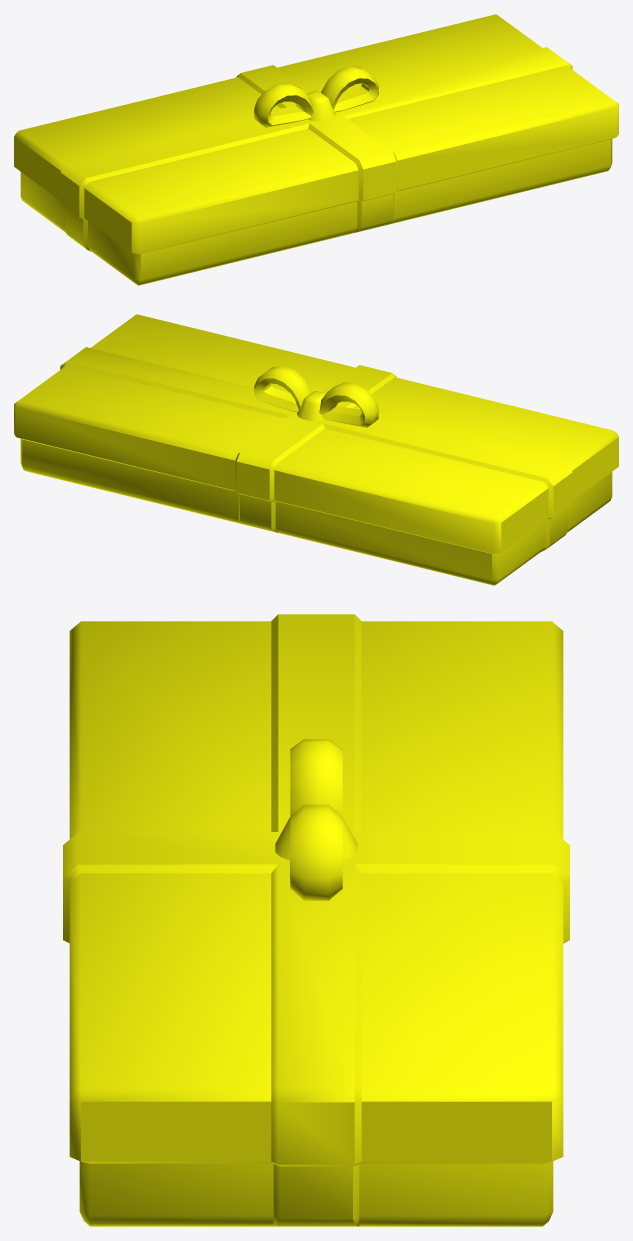
Rendered from kaykit-present-f-red.glb.
3 renders of one model, top to bottom at view 1: azimuth 30°, elevation 25°; view 2: azimuth 150°, elevation 25°; view 3: azimuth 270°, elevation 25°, orthographic. The views are drawn at different scales.
Parts seen in each view (by area): view 1: present_F_red; view 2: present_F_red; view 3: present_F_red.
Boxes of the visible parts, x1,y1,x2,y2 form: present_F_red: [14, 14, 618, 285]; present_F_red: [14, 314, 618, 585]; present_F_red: [63, 614, 569, 1226].
Bounding box in the file's own units: 2.16 × 0.4617 × 0.9636.
